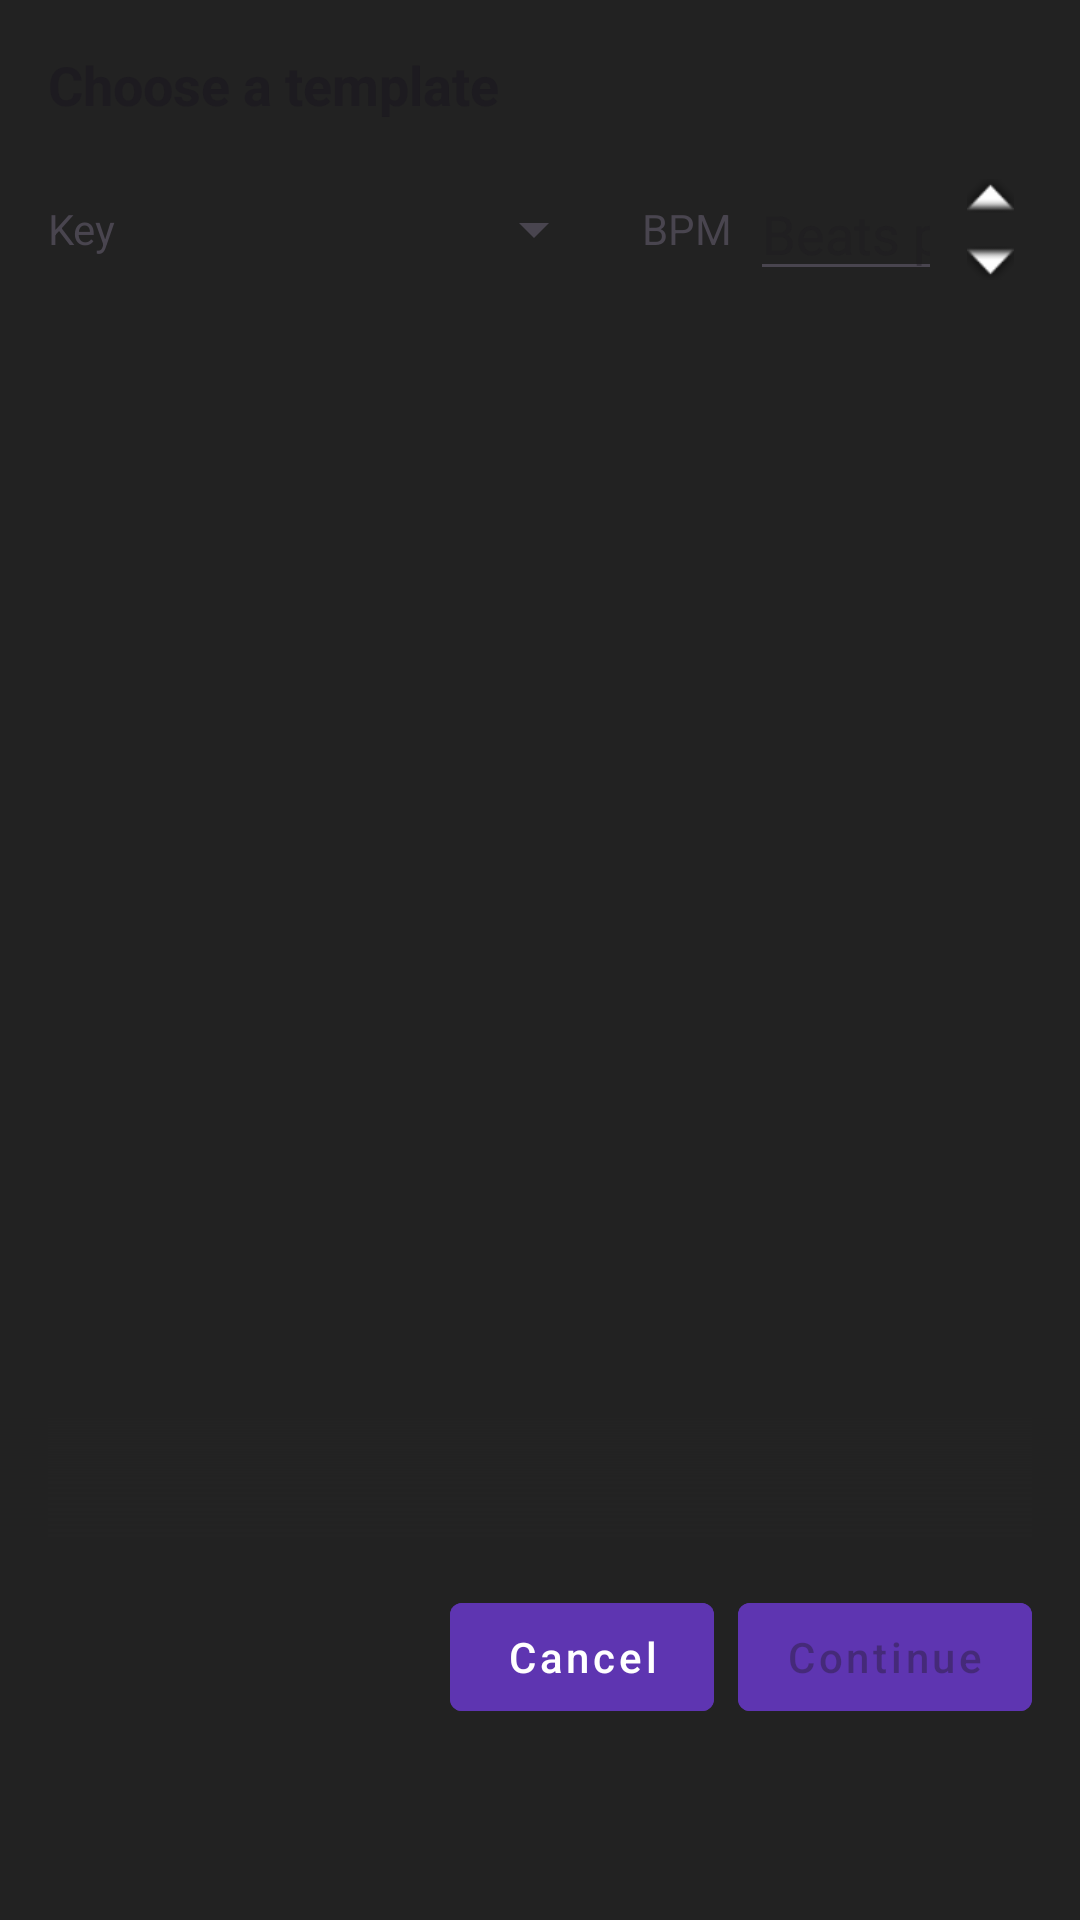

Where to tap for icons on this 1080w x 1920h app screen, as point (x, y):
Decrease BPM: point (990, 261)
Increase BPM: point (990, 197)
